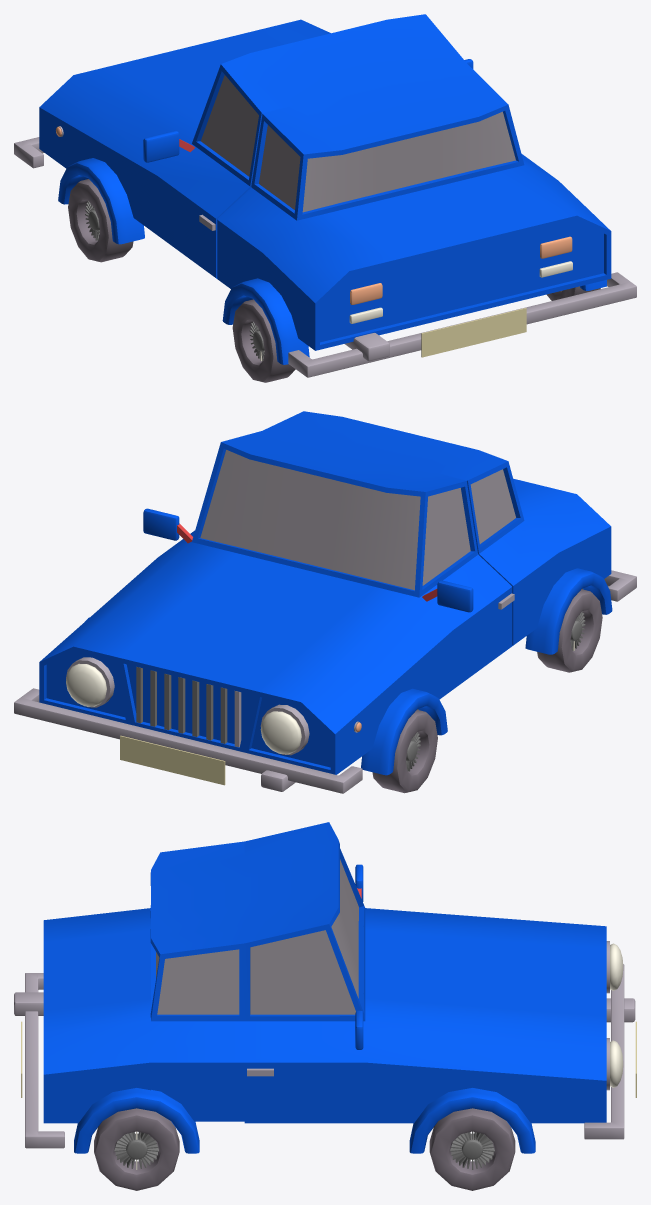
File: car_fired 1.fbx
3 renders of one model, top to bottom at view 1: azimuth 30°, elevation 25°; view 2: azimuth 150°, elevation 25°; view 3: azimuth 270°, elevation 25°, orthographic.
Visible parts, largest first — view 1: Car, Cube_5_4, Tube, Tube_1_2, Tube_1, Tube_2, License_plate_BACK, light_000, miror, BACK_bumper, light_00, Cube_5; view 2: Car, Cube_5, Tube_1_2, Tube_1, Sphere, Tube_2, Tube, License_plate_FRONT, miror, Cylinder, Cube_5_4; view 3: Car, Tube_2, Tube, Tube_1, Tube_1_2, Cube_5_4, Cube_5, Sphere, BACK_bumper, miror.
Boxes of the visible parts, x1,y1,x2,y2 form: Car: (39, 14, 611, 350); Cube_5_4: (288, 272, 636, 377); Tube: (232, 286, 600, 382); Tube_1_2: (58, 158, 144, 244); Tube_1: (222, 278, 606, 364); Tube_2: (68, 179, 133, 262); License_plate_BACK: (421, 308, 526, 357); light_000: (350, 236, 572, 304); miror: (143, 59, 473, 162); BACK_bumper: (344, 333, 389, 361); light_00: (349, 261, 572, 323); Cube_5: (14, 137, 44, 168); Car: (39, 411, 611, 774); Cube_5: (14, 688, 362, 793); Tube_1_2: (85, 617, 447, 775); Tube_1: (525, 568, 612, 654); Sphere: (66, 663, 301, 754); Tube_2: (372, 709, 437, 793); Tube: (537, 589, 602, 672); License_plate_FRONT: (120, 735, 225, 785); miror: (143, 508, 473, 612); Cylinder: (66, 657, 309, 755); Cube_5_4: (604, 570, 636, 601); Car: (43, 822, 606, 1123); Tube_2: (429, 1108, 515, 1190); Tube: (94, 1108, 179, 1190); Tube_1: (74, 1088, 199, 1153); Tube_1_2: (409, 1088, 535, 1153); Cube_5_4: (25, 973, 64, 1148); Cube_5: (584, 964, 624, 1139); Sphere: (610, 943, 623, 1087); BACK_bumper: (14, 992, 43, 1015); miror: (355, 864, 363, 1049).
Size of the model in its own units: 291 by 195 by 465.
